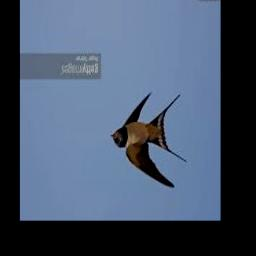Swallow: (111, 93, 187, 189)
